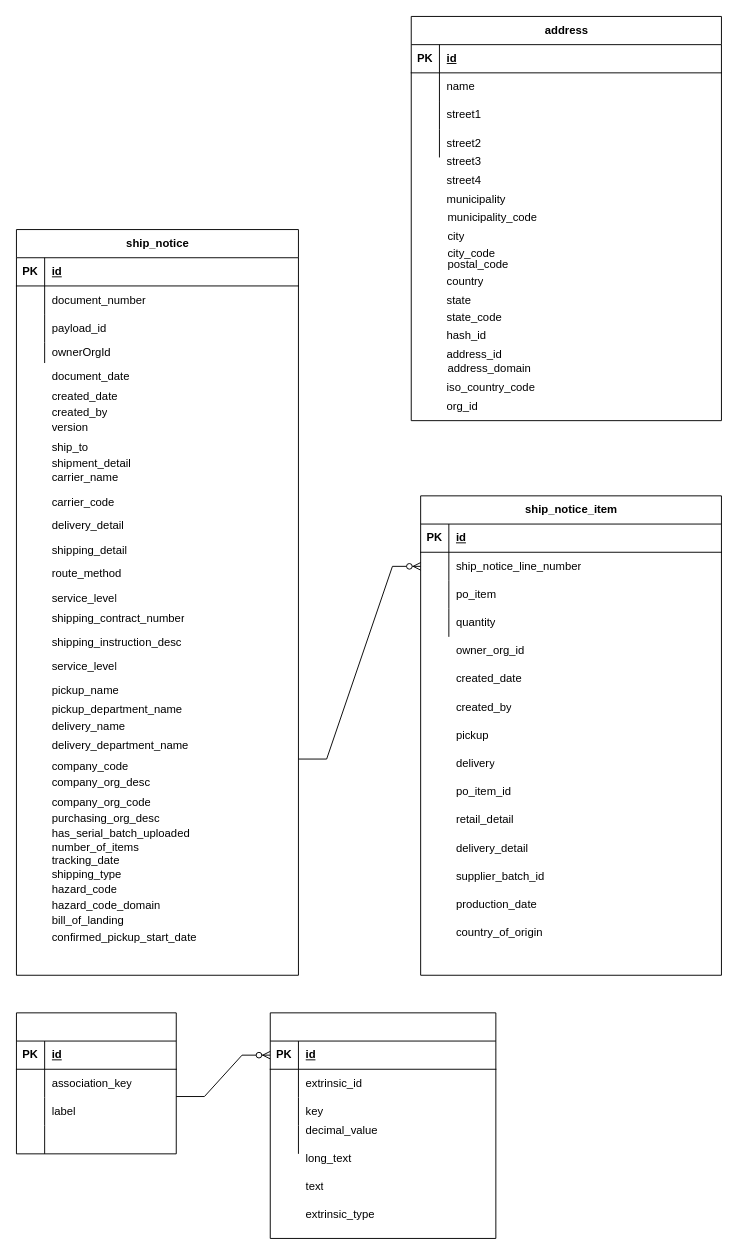
This 739x1255 diagram has some shape labels left out. The box of each missing label's shape, as (x1, y1, x2, y2) in pixels:
extrinsic: (16, 1012, 176, 1154)
extrinsic_element: (269, 1012, 496, 1238)
